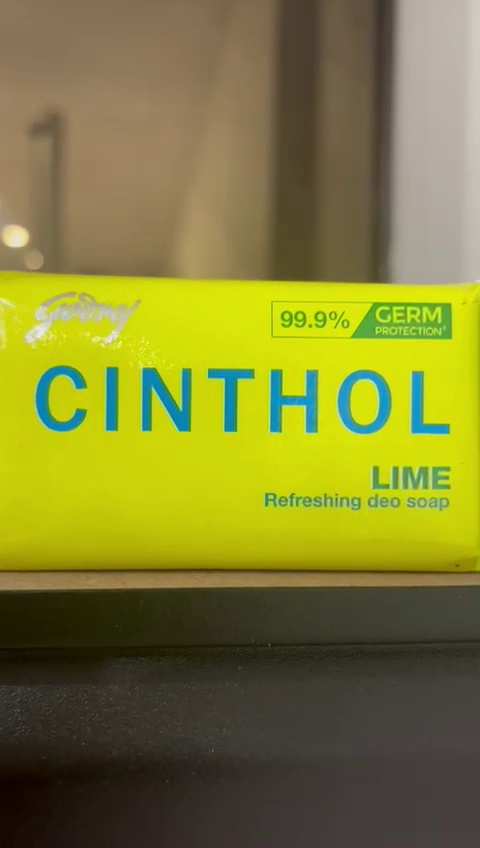Cinthol: (0, 269, 480, 575)
